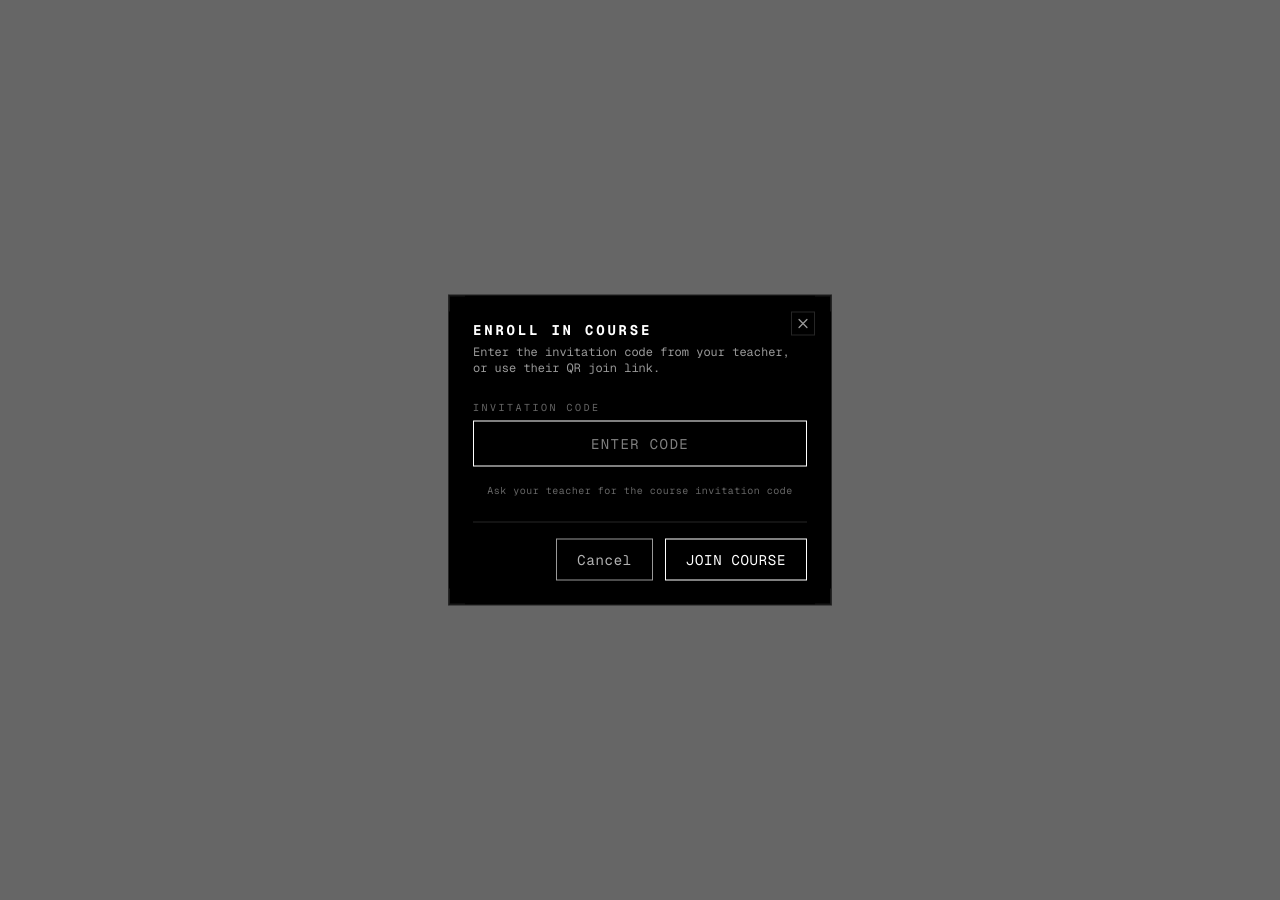
Test case: EnrollCourseModal › shows API error when enrollment fails
Type "BADCOD" into the field labelled "Invitation Code".
click(640, 444); type("BADCOD")  # box [473,420,807,466]
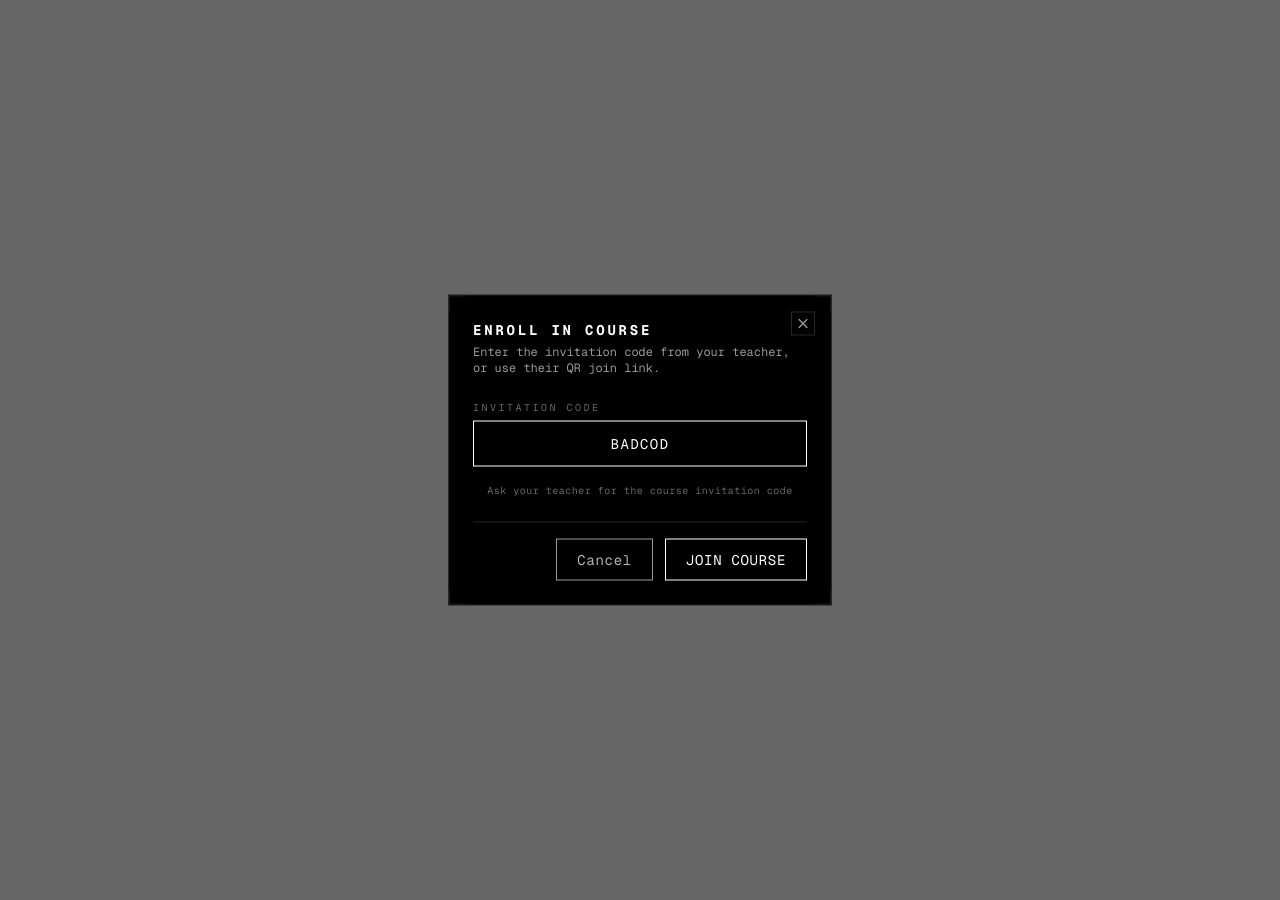
Click the button "JOIN COURSE".
click(736, 560)  # box [665,538,807,580]
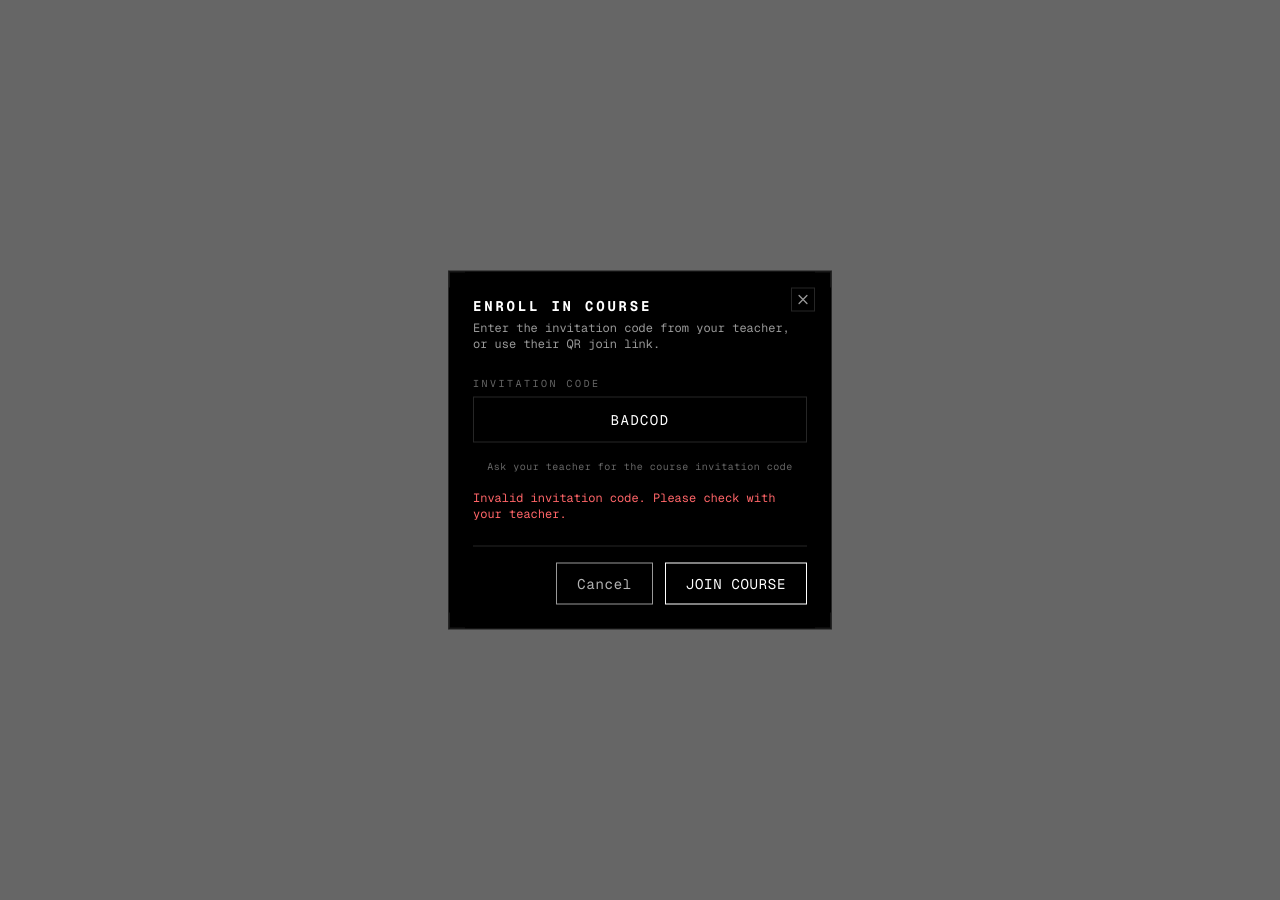
expect the text "Invalid invitation code. Please check with your teacher." is shown: met, box [473,490,807,522]
